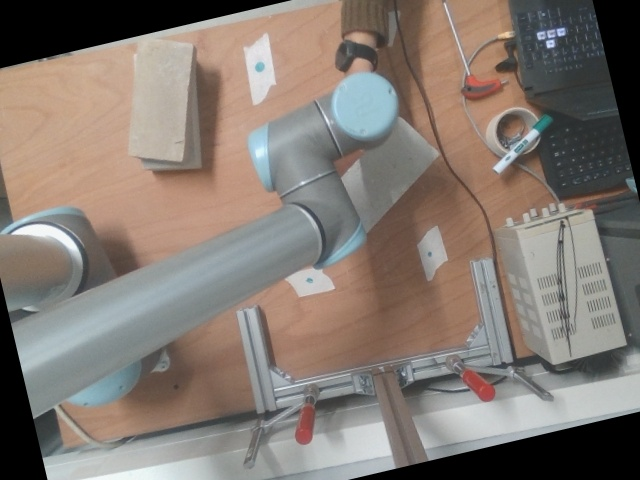brick: (128, 38, 189, 158)
